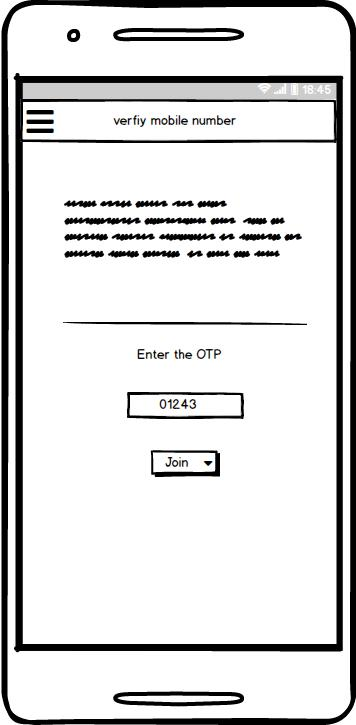EditText: (127, 392, 245, 420)
Icon: (27, 110, 55, 135)
Text: (64, 201, 303, 259), (114, 115, 237, 129), (137, 348, 222, 360)
TextButton: (151, 450, 220, 478)
Toolbar: (23, 102, 335, 141)
